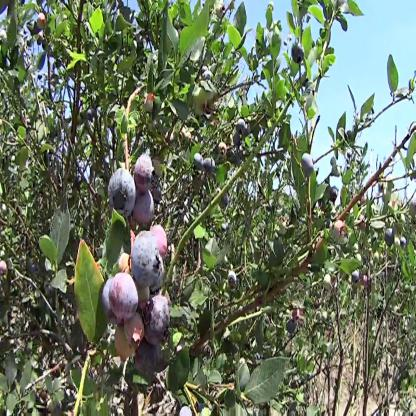intermediate: (116, 325, 142, 361), (152, 224, 169, 255), (334, 220, 345, 240), (38, 11, 47, 30)
mature: (134, 230, 164, 291), (110, 272, 140, 322), (109, 170, 136, 220), (144, 297, 171, 346), (136, 154, 157, 195), (137, 194, 156, 227), (103, 280, 112, 323), (196, 154, 214, 174), (302, 153, 314, 178), (233, 122, 247, 143), (292, 44, 305, 65), (385, 229, 395, 248), (286, 319, 297, 336), (350, 270, 360, 287), (229, 277, 237, 291)
young: (193, 89, 208, 114), (219, 140, 229, 157), (145, 96, 155, 113)
